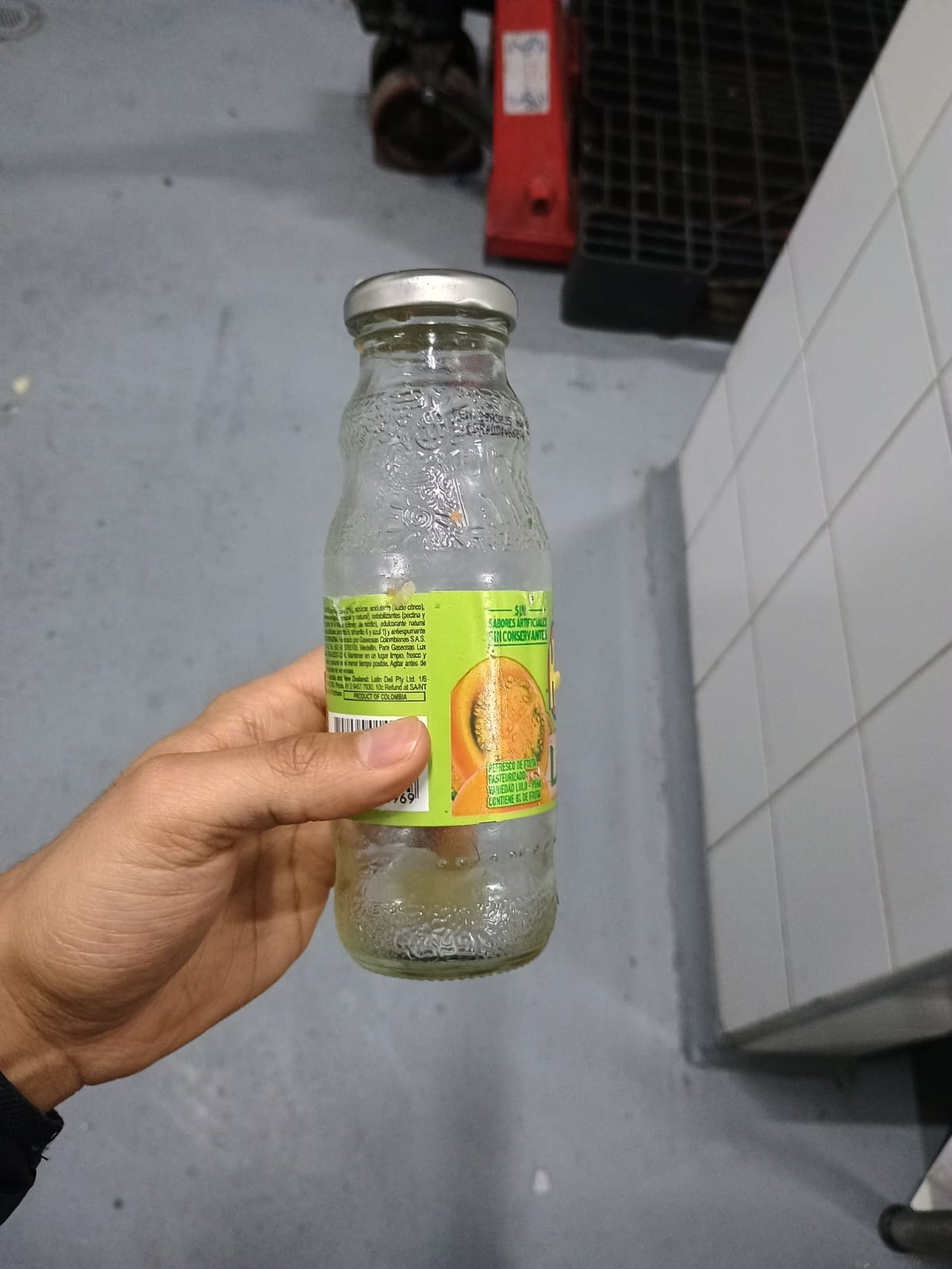Metal: (345, 267, 519, 313)
Vidrio: (319, 319, 558, 979)
